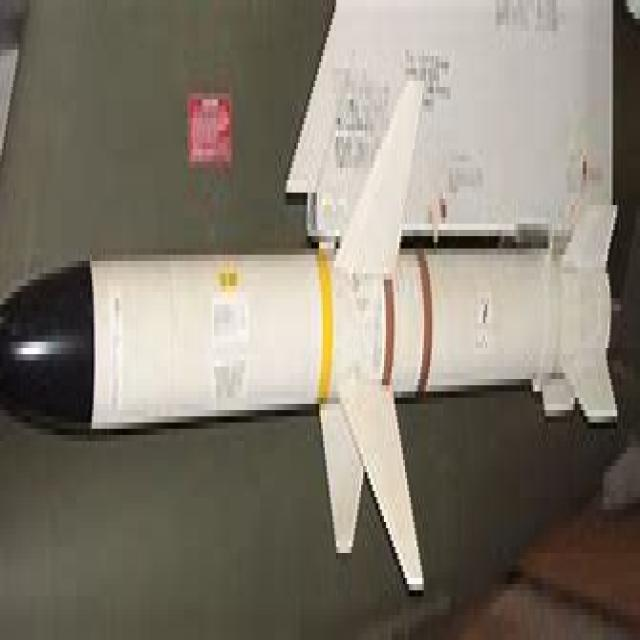missile: (1, 83, 624, 600)
